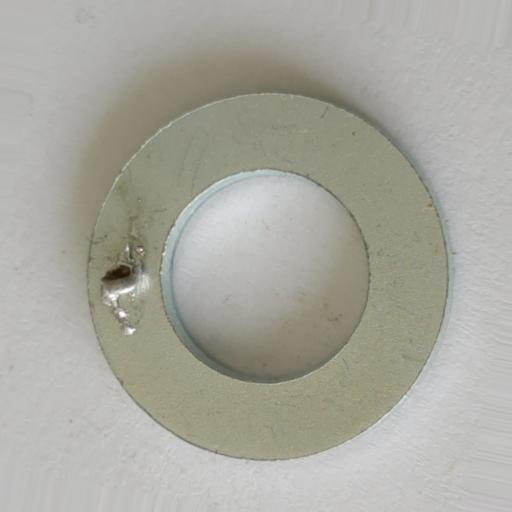excess_material: (100, 242, 147, 334)
